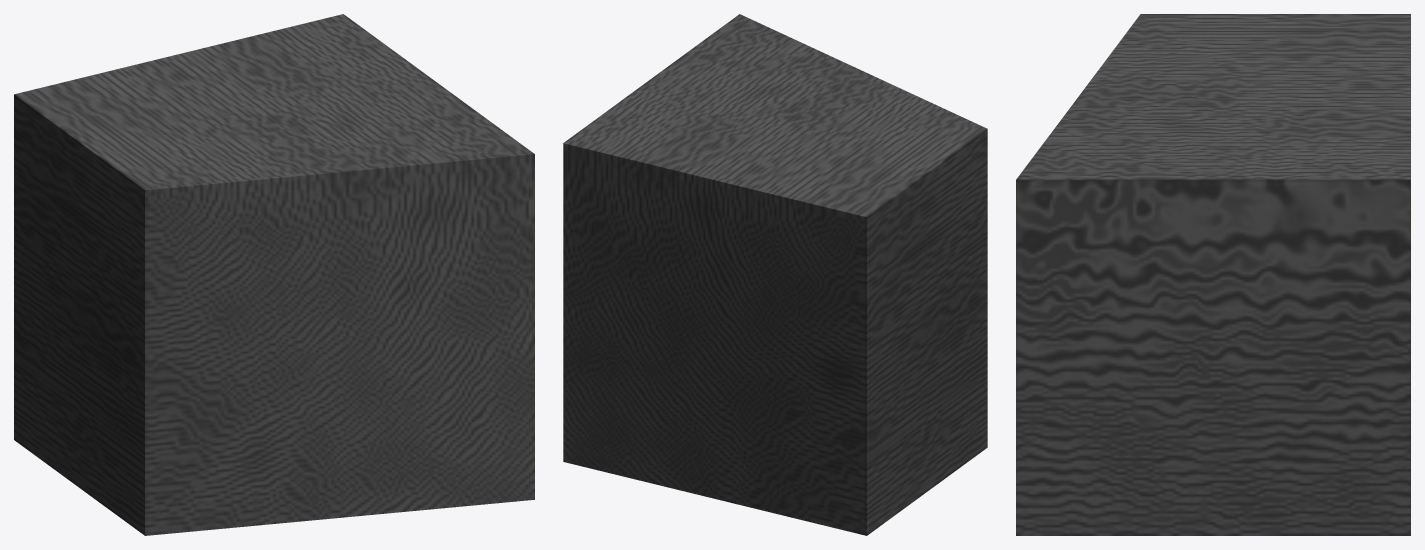
3 renders of one model, left to right at view 1: azimuth 30°, elevation 25°; view 2: azimuth 150°, elevation 25°; view 3: azimuth 270°, elevation 25°, orthographic. The views are drawn at different scales.
Parts seen in each view (by area): view 1: 8; view 2: 8; view 3: 8.
Boxes of the visible parts, x1,y1,x2,y2 form: 8: (14, 14, 534, 535); 8: (563, 14, 987, 535); 8: (1016, 14, 1410, 535).
Bounding box in the file's own units: 1.99 × 2 × 2.01.
Materials: 1 (1 with a texture image).
